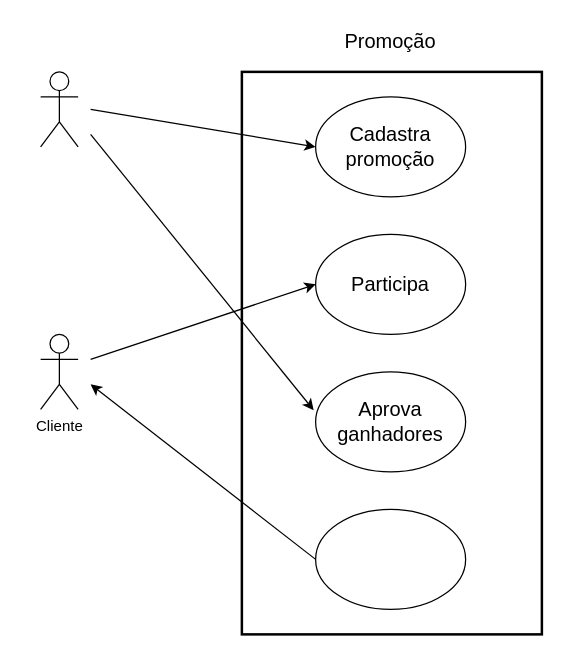
Some shapes in this 565 by 656 pixel diagram are drawn without their labels. The box of each missing label's shape, as (x1, y1, x2, y2) in pixels:
Fornecedor: (39, 71, 78, 147)
Recebe premio: (314, 508, 466, 609)
